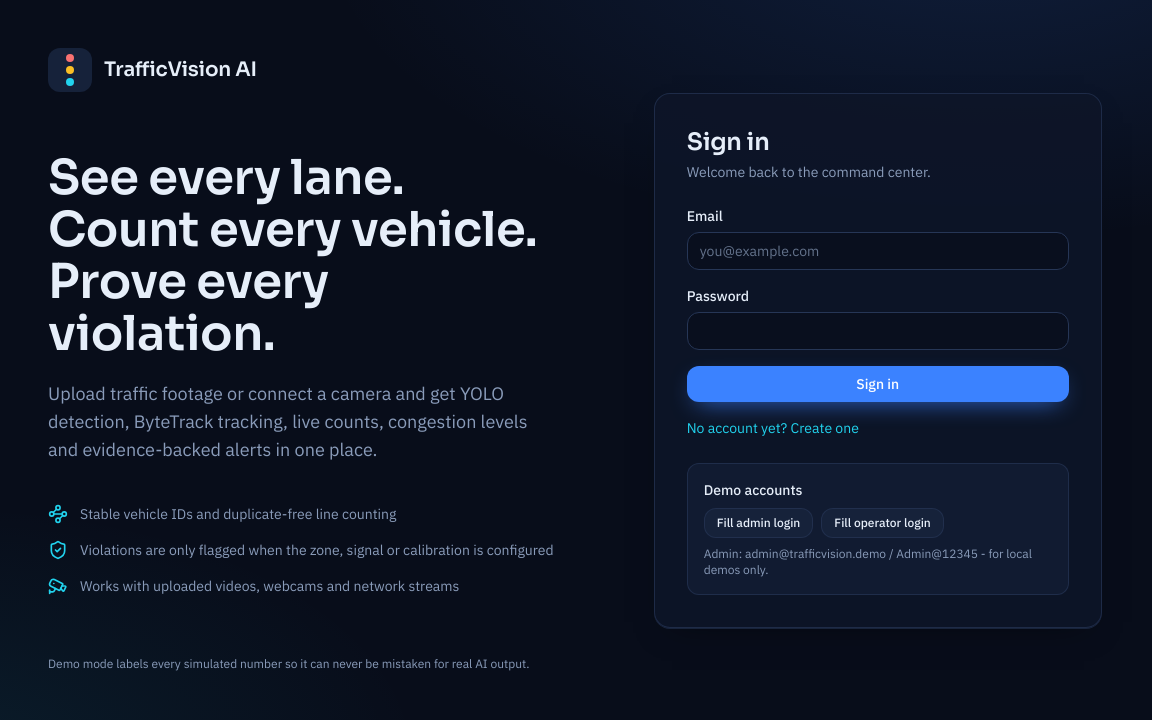
Test: Login › switches to registration with password rules and fills demo credentials
Click the button "Fill admin login": (758, 522) [704, 508, 813, 538]
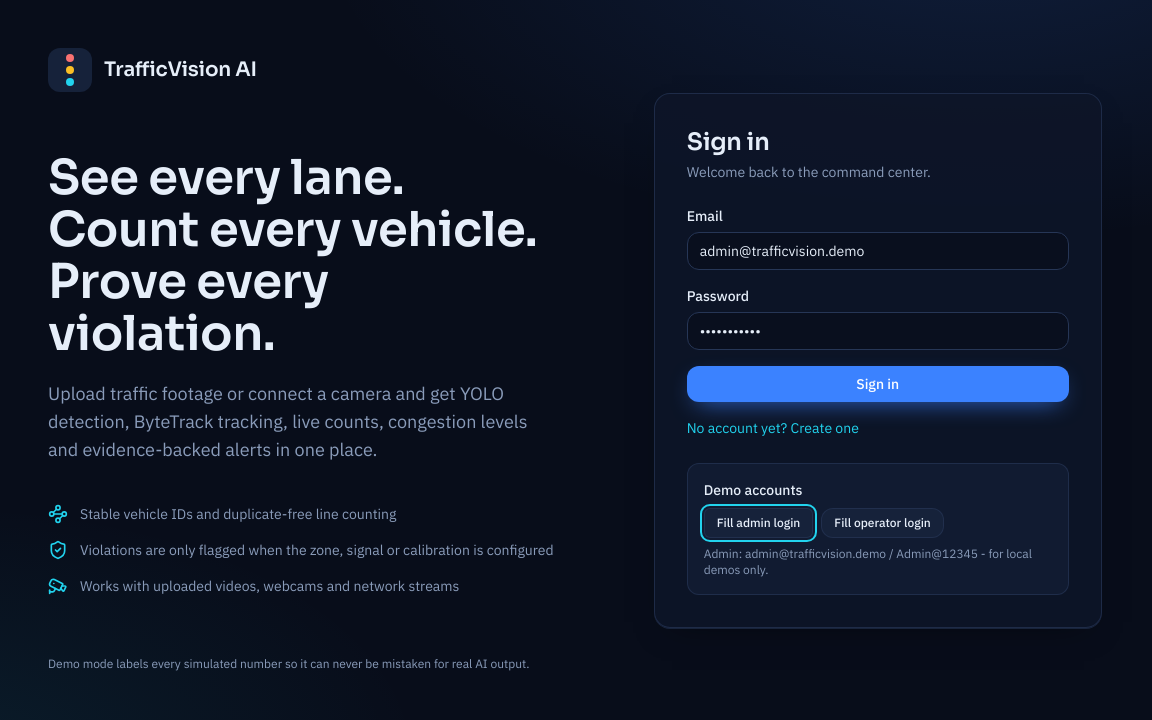
Now the field labelled "Email" holds "admin@trafficvision.demo", box [687, 232, 1069, 270]
Click the button "No account yet? Create one": (773, 428) [687, 418, 859, 438]
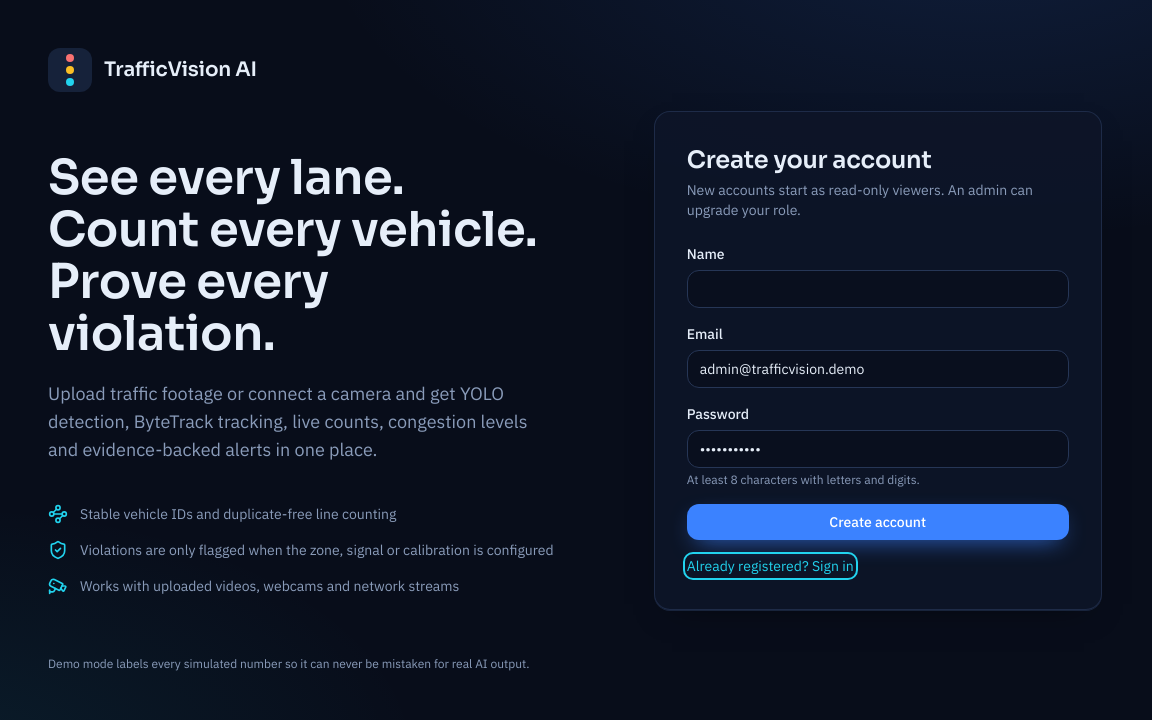
In the field labelled "Name": (878, 288) [687, 270, 1069, 308], type "Mehak"
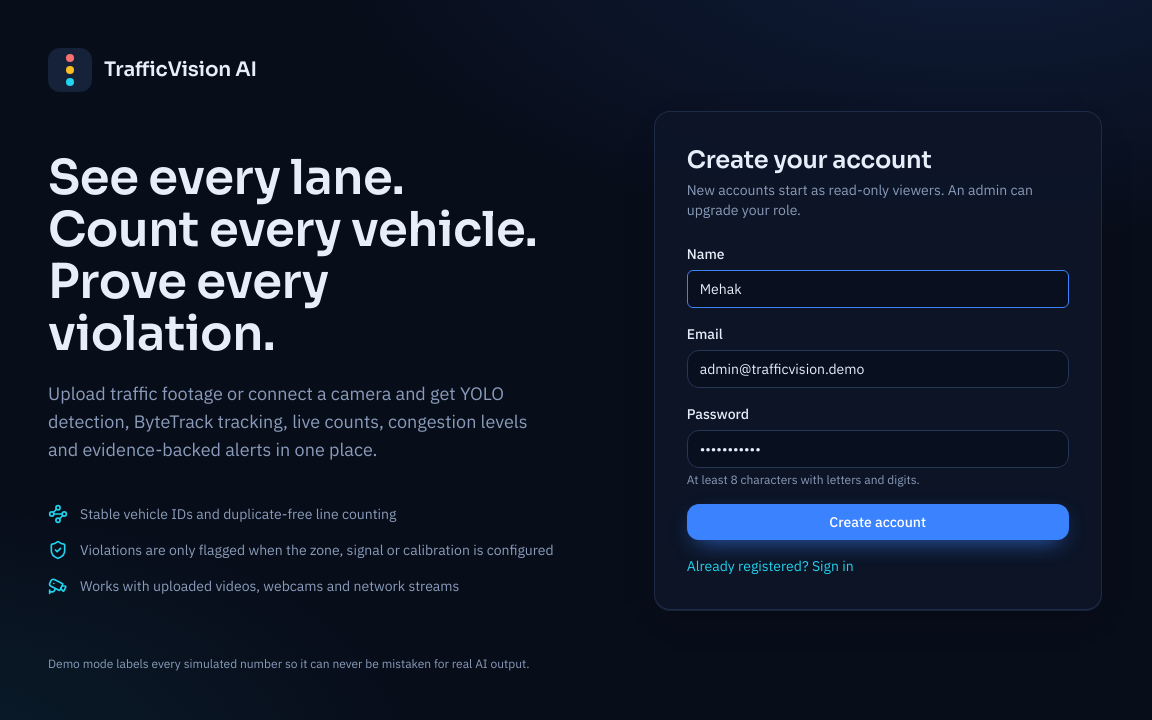
In the password field labelled "Password At least 8 characters with letters and digits.": (878, 448) [687, 430, 1069, 468], type "onlyletters"
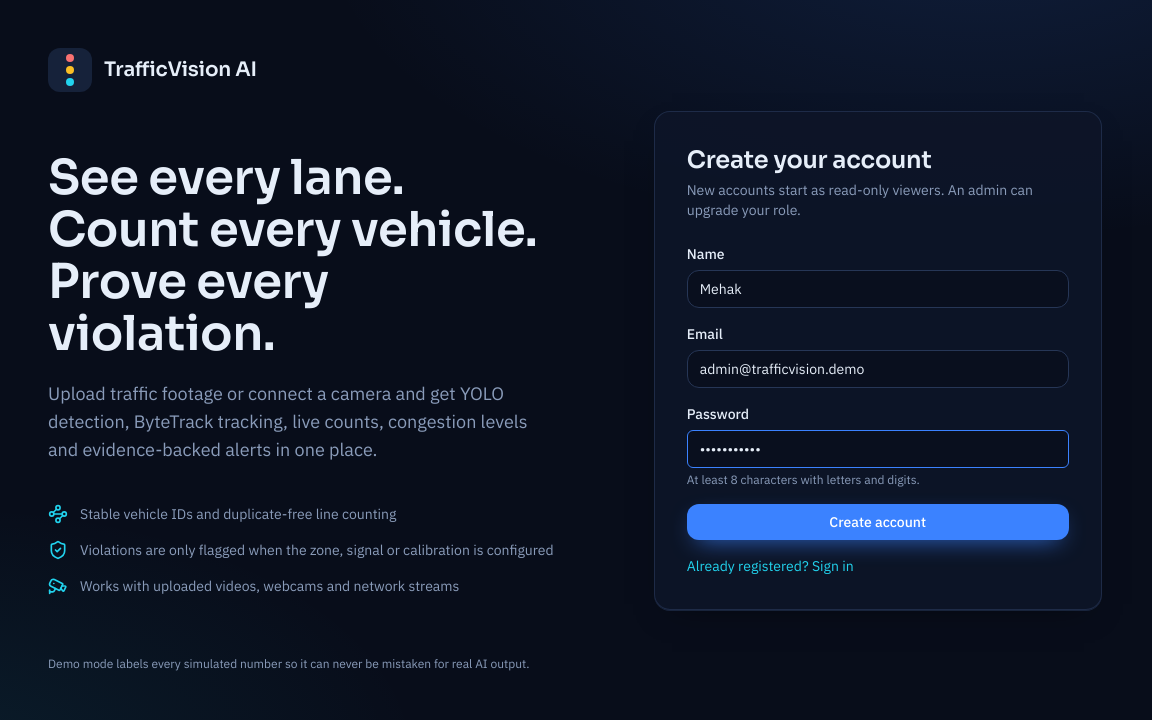
Click the button "Create account": (878, 522) [687, 504, 1069, 540]
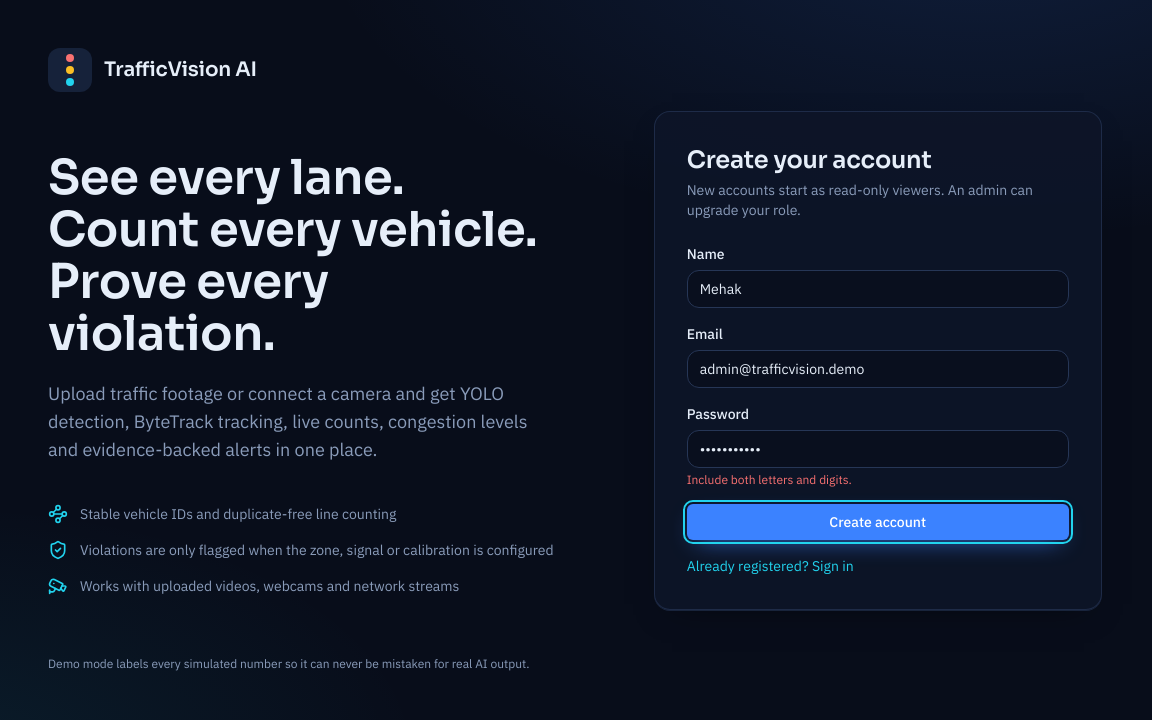
Now the text "Include both letters and digits." is shown, box [687, 472, 852, 486]
